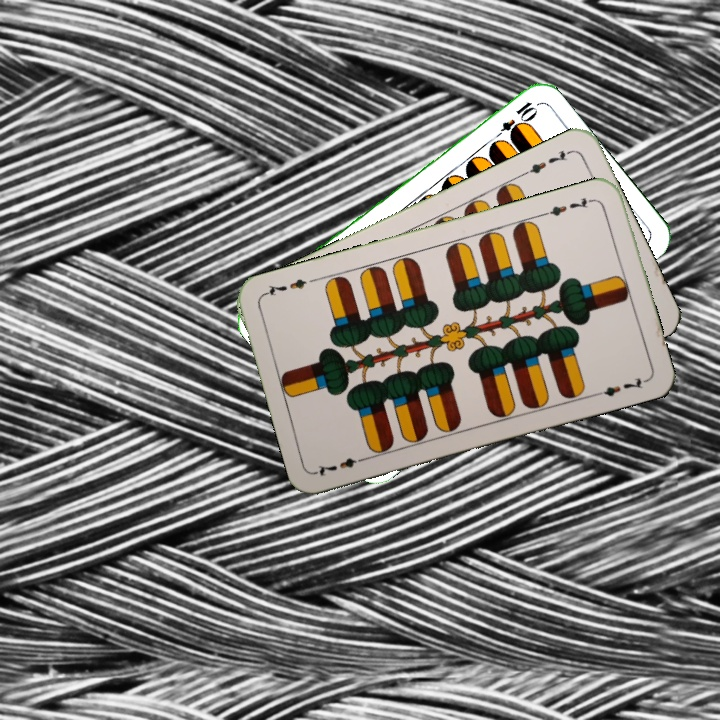E10: (488, 97, 538, 143)
E7: (519, 146, 575, 178), (312, 452, 370, 479), (540, 193, 598, 219)
